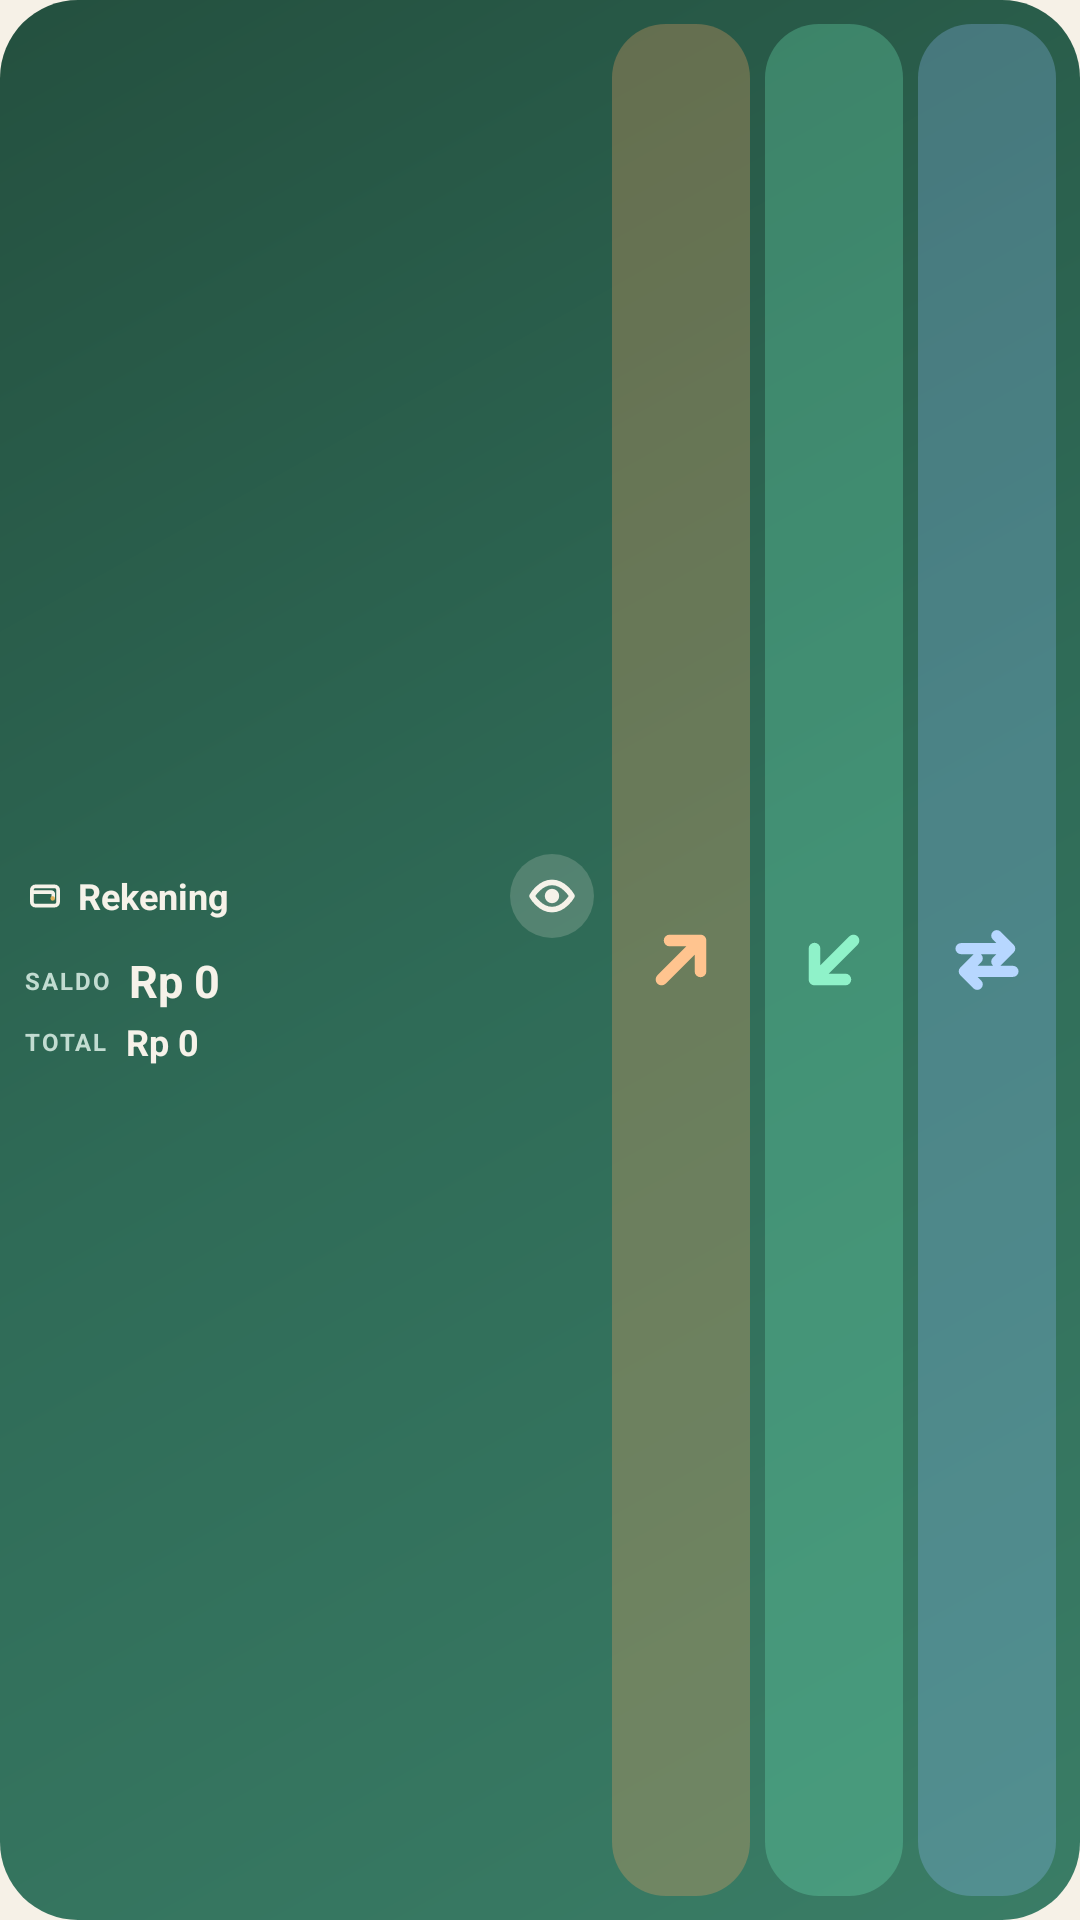

Where icons sit on this 1080×1920 app screen, as (x1, y1, x2, y2):
Pendapatan: (808, 935, 860, 986)
Pengeluaran: (655, 934, 707, 986)
Sembunyikan atau tampilkan nominal: (510, 854, 594, 938)
Transfer: (955, 930, 1019, 990)
